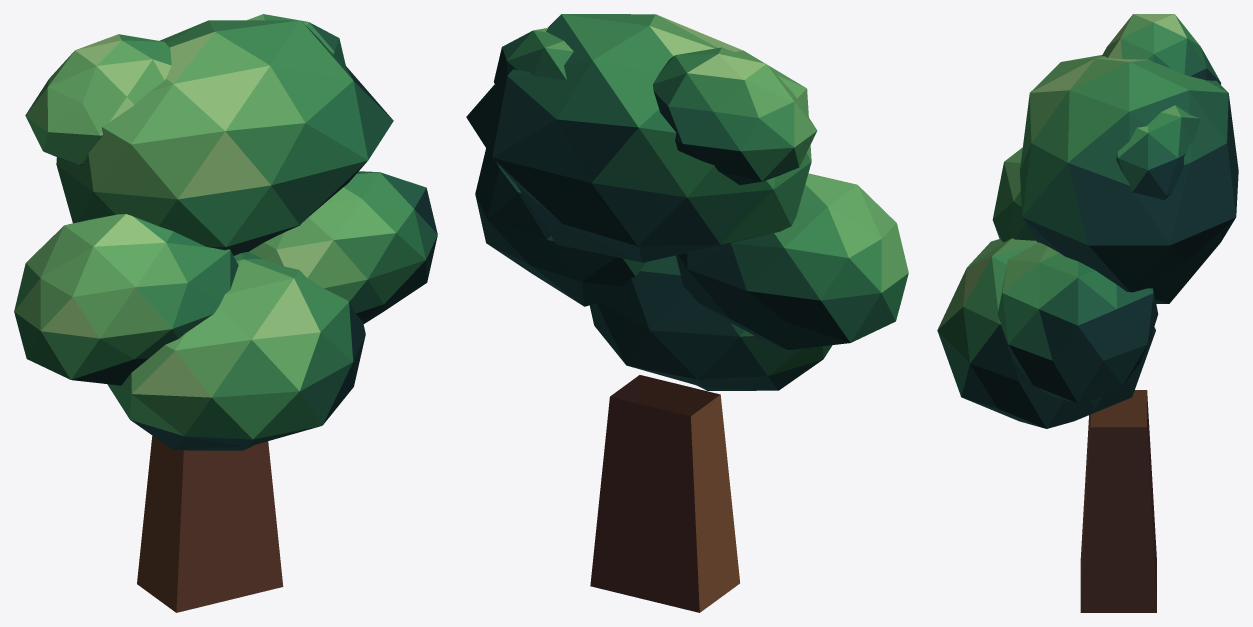
File: tree_tree21.glb
The picture shows the model from 3 angles, left to right: view 1: azimuth 30°, elevation 25°; view 2: azimuth 150°, elevation 25°; view 3: azimuth 270°, elevation 25°; orthographic projection. The views are drawn at different scales.
Visible parts, largest first — view 1: tree21; view 2: tree21; view 3: tree21.
Part boxes in pixels (<box>): tree21: <box>14,14,437,612</box>; tree21: <box>466,14,908,612</box>; tree21: <box>937,14,1238,612</box>.
Size of the model in its own units: 1.08 by 1.41 by 0.7243.
